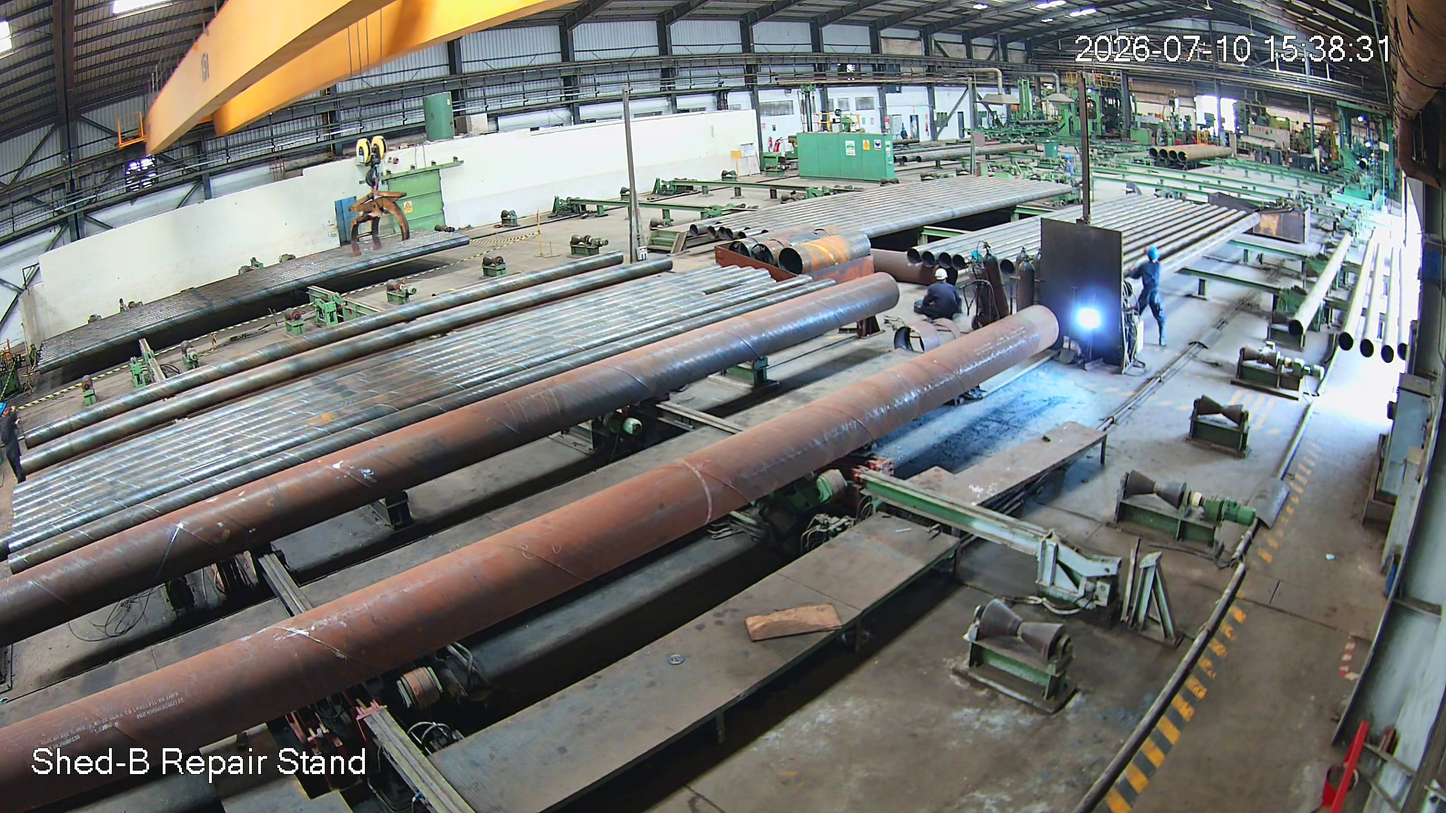Helmet: (931, 262, 955, 292), (1144, 237, 1164, 271)
Person: (1134, 243, 1168, 343), (915, 269, 953, 319)
